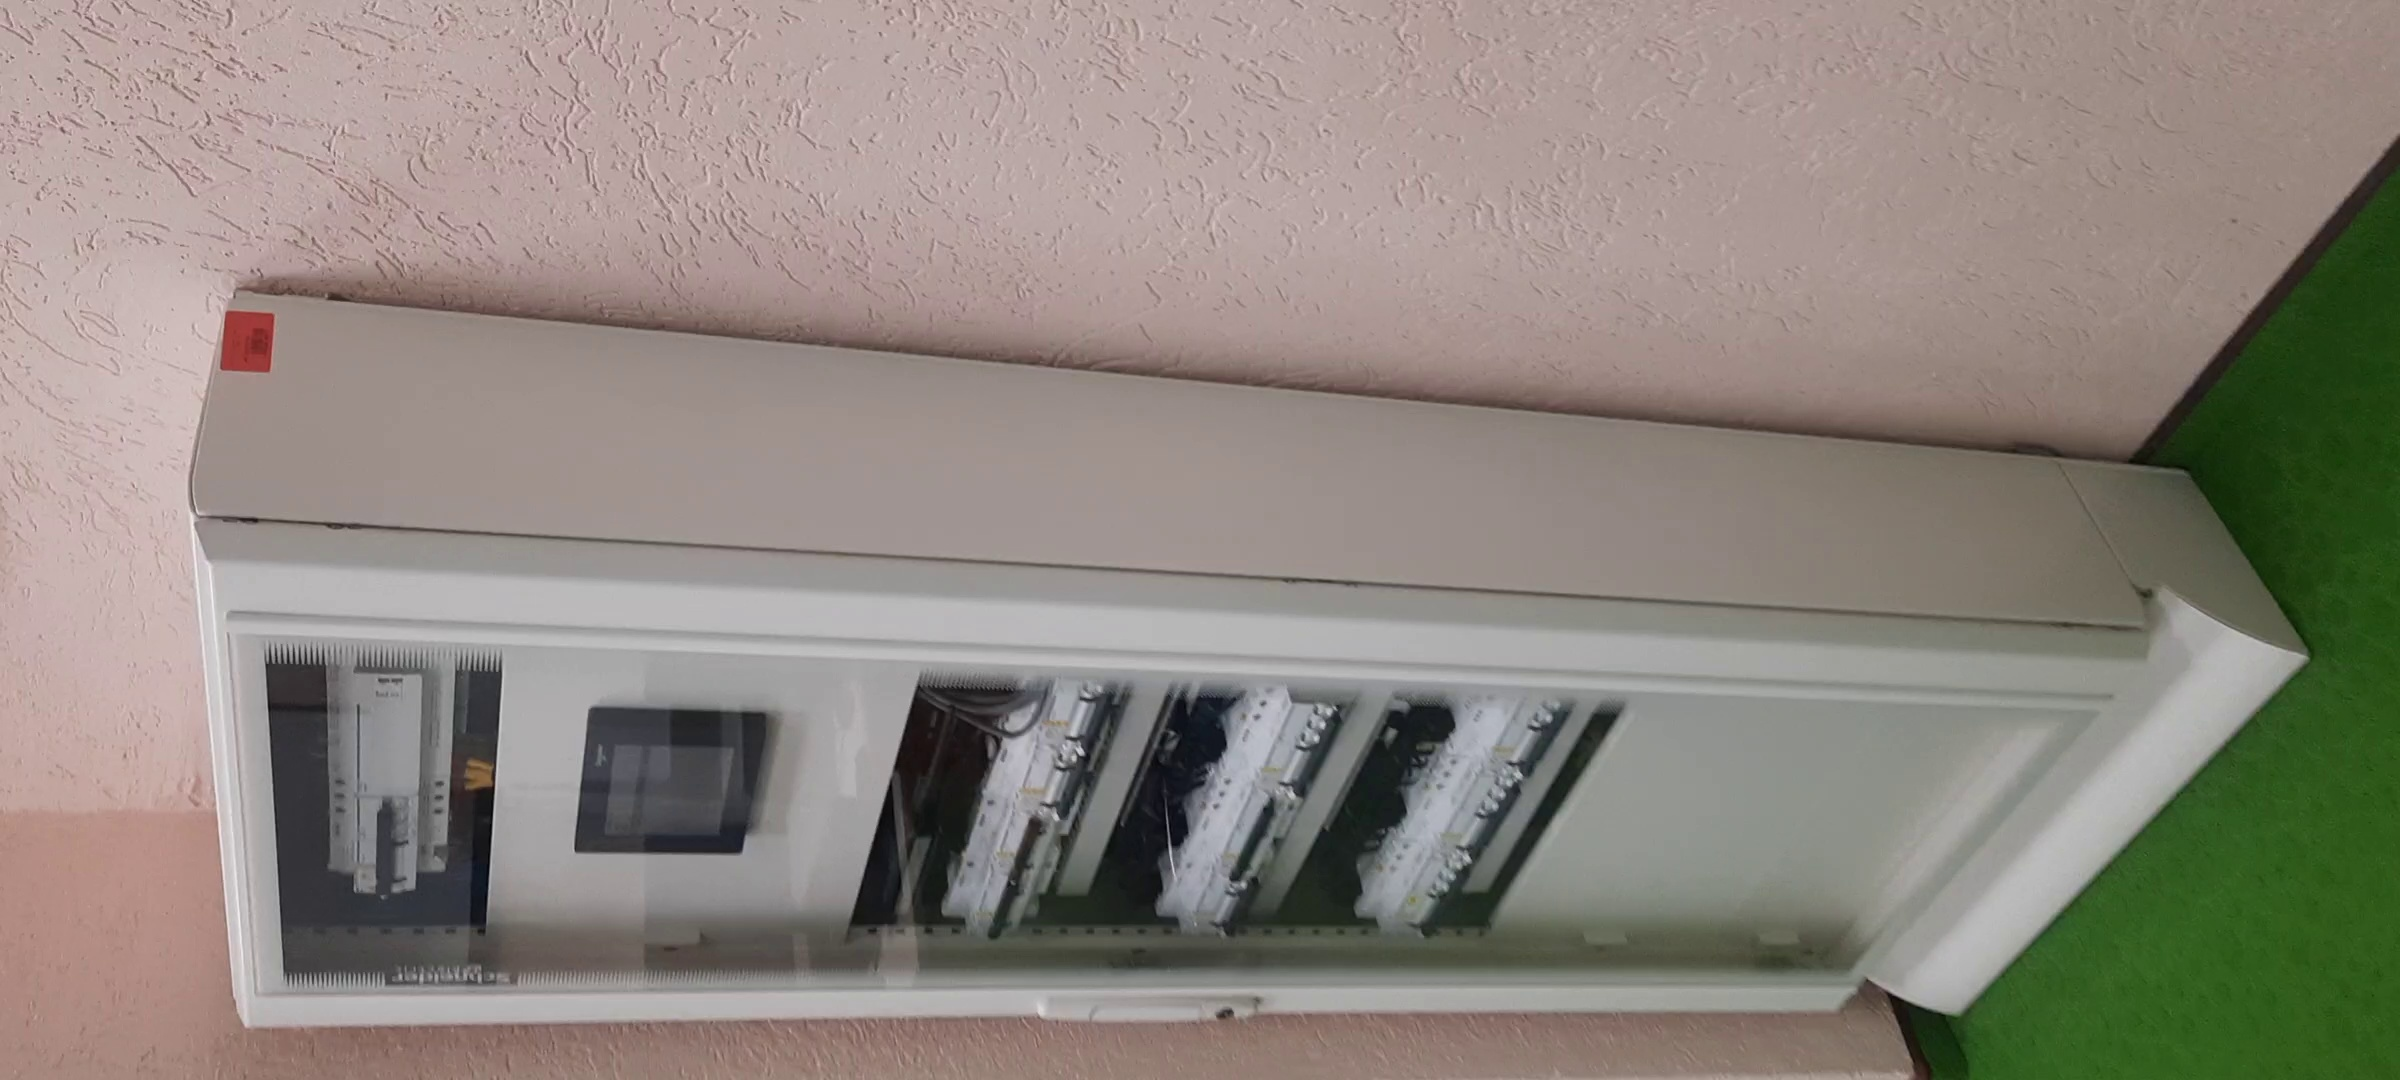smart_stand: (188, 312, 2259, 1020)
